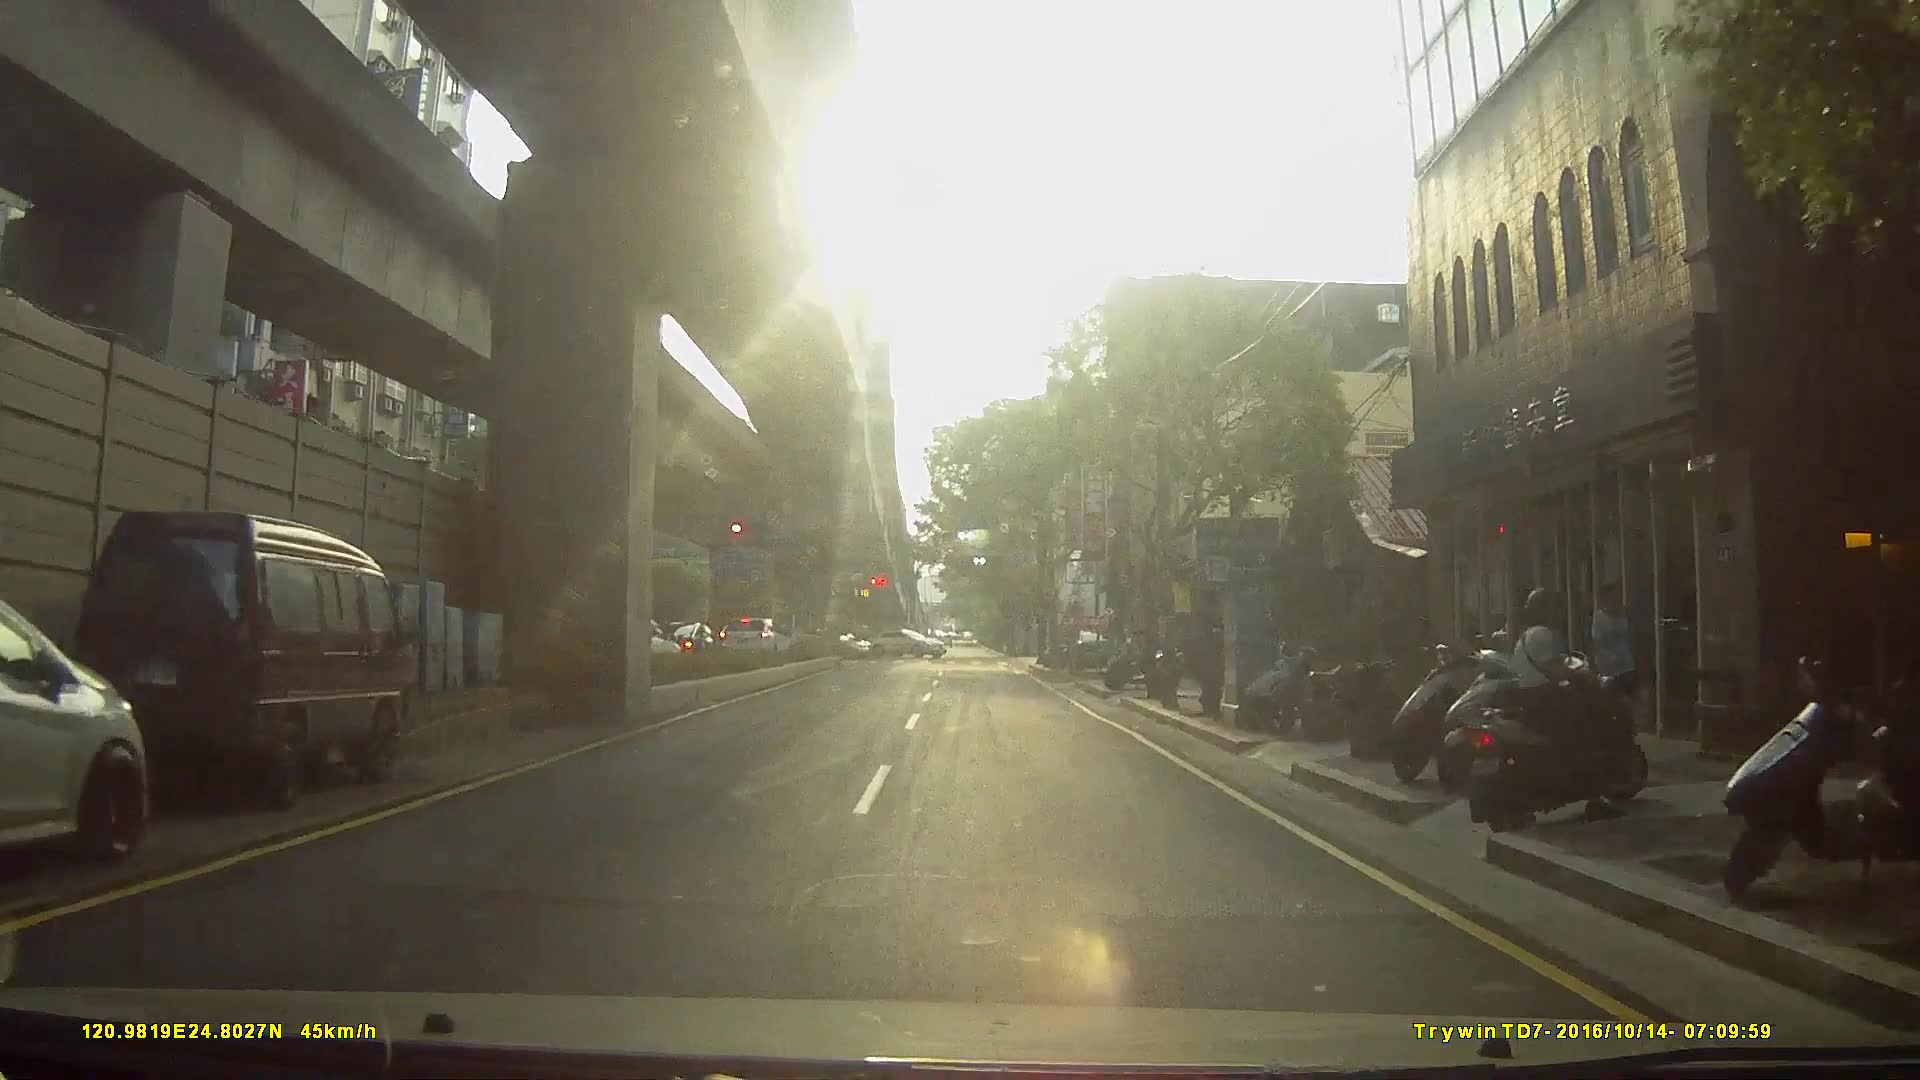pedestrian: (1587, 580, 1655, 765)
rider: (1473, 591, 1677, 833)
vehicle: (40, 501, 403, 812), (1, 613, 160, 870), (779, 624, 876, 662), (716, 615, 793, 661), (1065, 624, 1118, 673), (871, 628, 951, 658)
